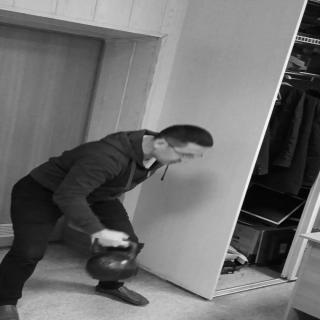kettlebell: (85, 240, 143, 283)
